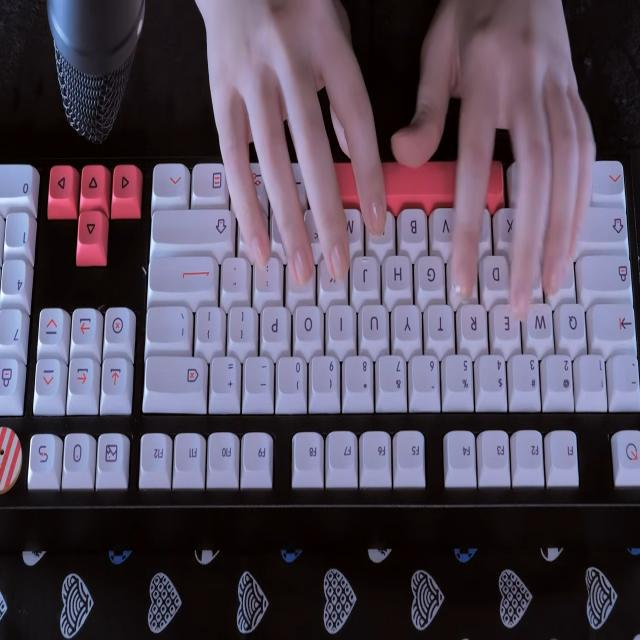keyboard-with-hands: (0, 157, 640, 510)
